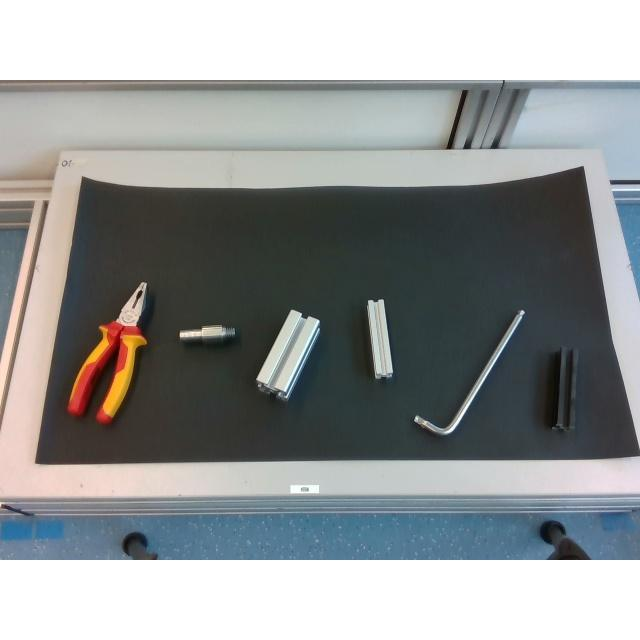AllenKey: (413, 308, 525, 436)
Axis2: (178, 326, 236, 342)
F20_20_B: (552, 346, 578, 430)
F20_20_G: (368, 299, 392, 379)
S40_40_G: (256, 310, 320, 398)
